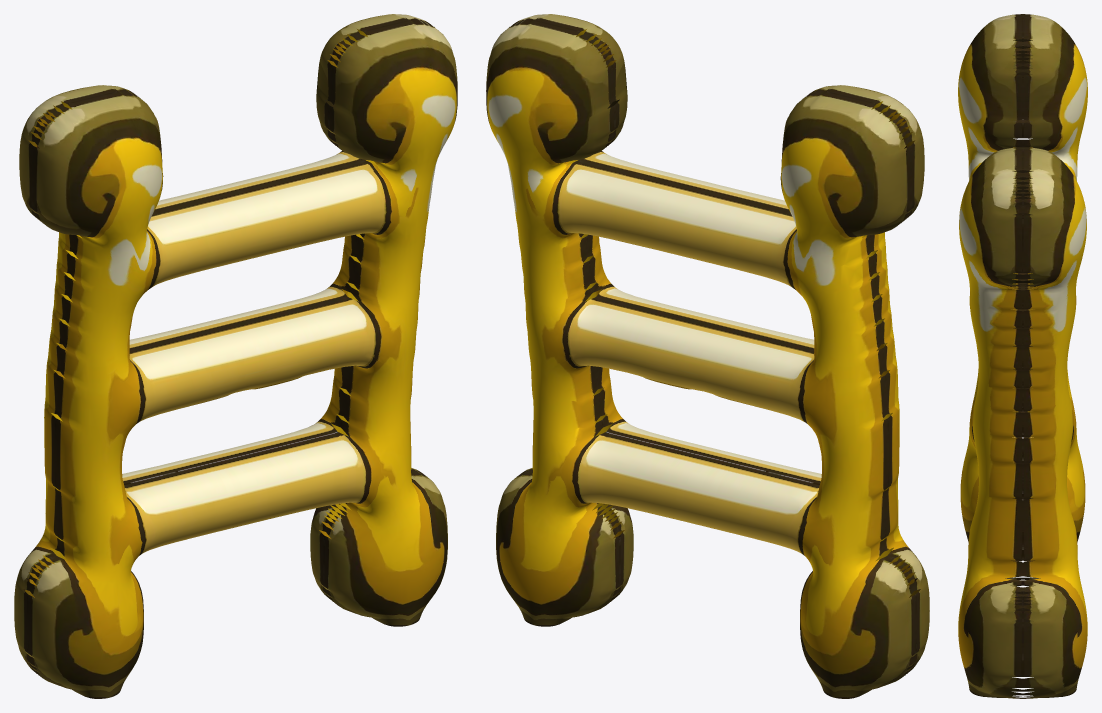
File: pit_ladder.glb
The picture shows the model from 3 angles, left to right: view 1: azimuth 30°, elevation 25°; view 2: azimuth 150°, elevation 25°; view 3: azimuth 270°, elevation 25°; orthographic projection. The views are drawn at different scales.
Visible parts, largest first — view 1: pit_ladder; view 2: pit_ladder; view 3: pit_ladder.
Boxes of the visible parts, box(x1,y1,x2,y2) form: pit_ladder: box(14, 14, 457, 698); pit_ladder: box(486, 14, 929, 698); pit_ladder: box(958, 14, 1087, 698).
Bounding box in the file's own units: 0.9855 × 1.3 × 0.2885.
Materials: 1 (1 with a texture image).
